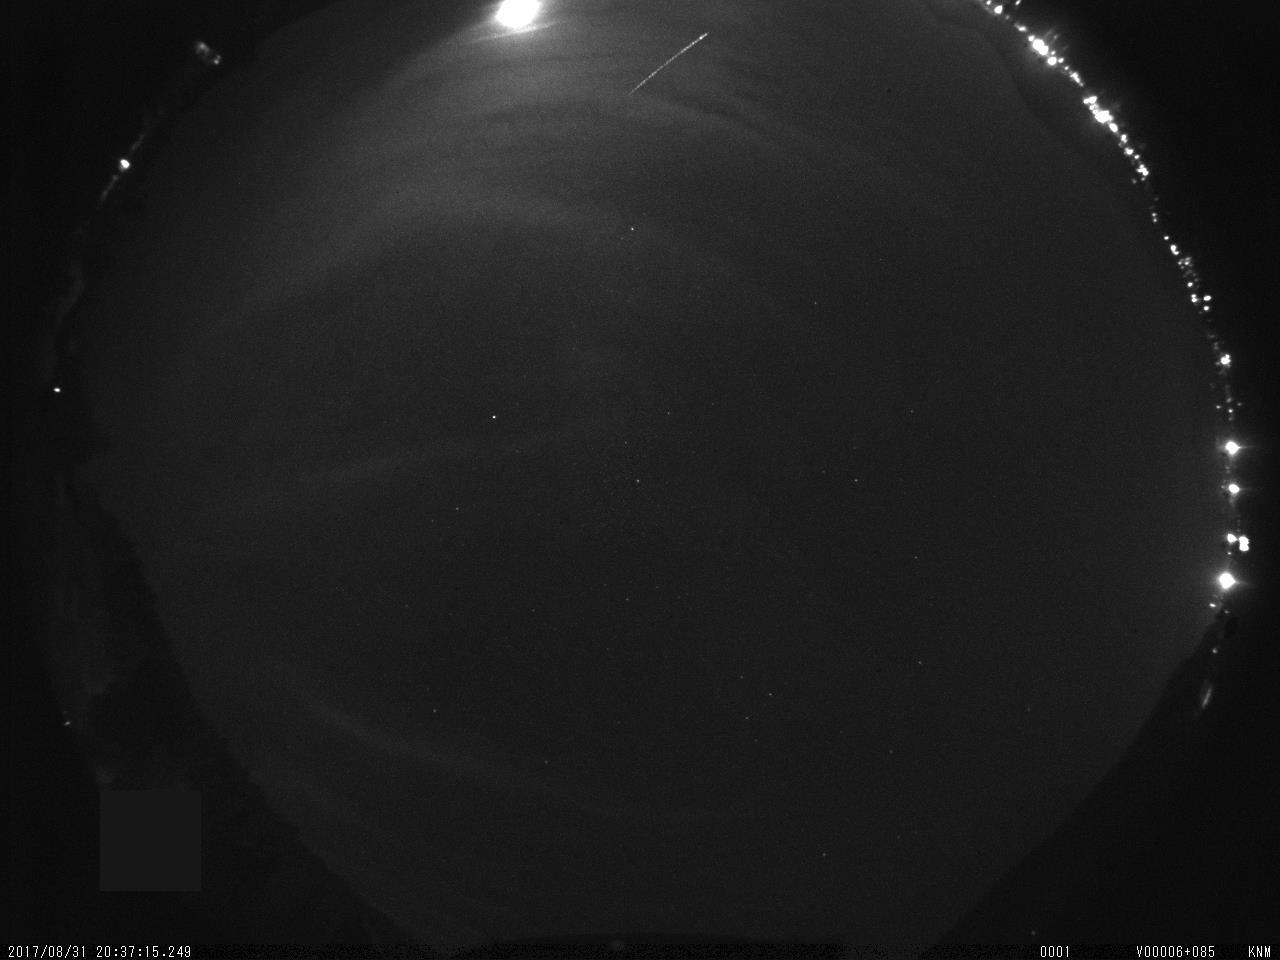meteor: (610, 26, 719, 104)
